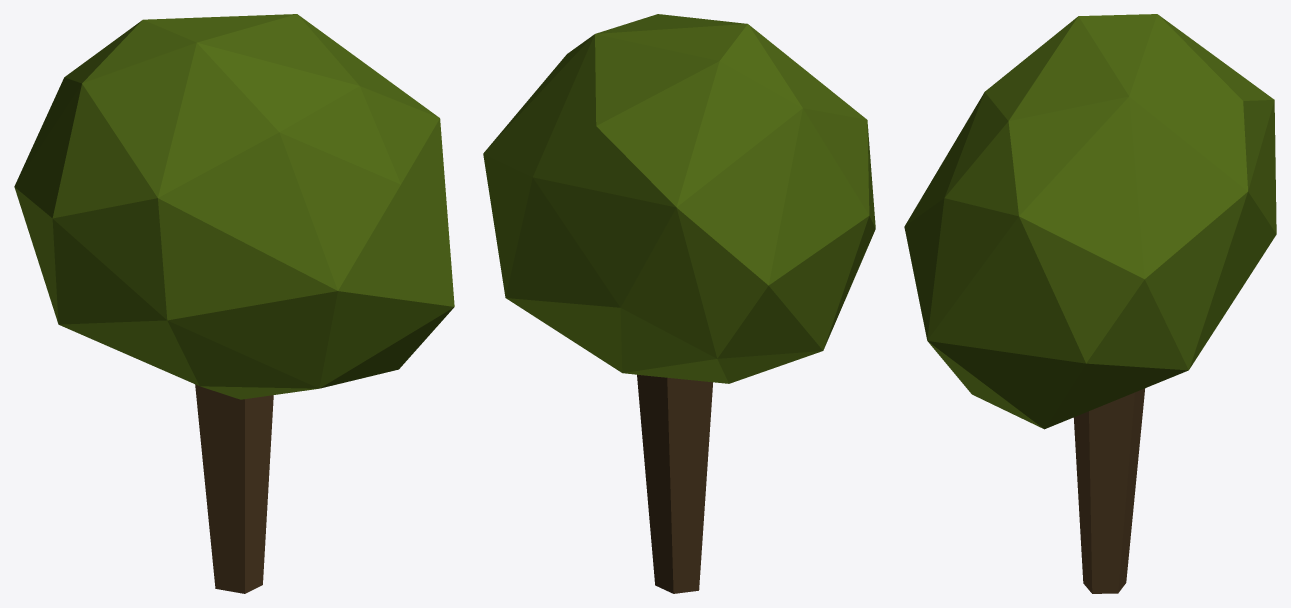
Rendered from TreesAndBushes_019.fbx.
3 renders of one model, left to right at view 1: azimuth 30°, elevation 25°; view 2: azimuth 150°, elevation 25°; view 3: azimuth 270°, elevation 25°, orthographic. The views are drawn at different scales.
Parts seen in each view (by area): view 1: TreesAndBushes_019; view 2: TreesAndBushes_019; view 3: TreesAndBushes_019.
Boxes of the visible parts, x1=… form: TreesAndBushes_019: x1=14, y1=14, x2=454, y2=593; TreesAndBushes_019: x1=483, y1=14, x2=875, y2=593; TreesAndBushes_019: x1=904, y1=14, x2=1276, y2=593.
Bounding box in the file's own units: 21.91 × 31.47 × 19.54.
